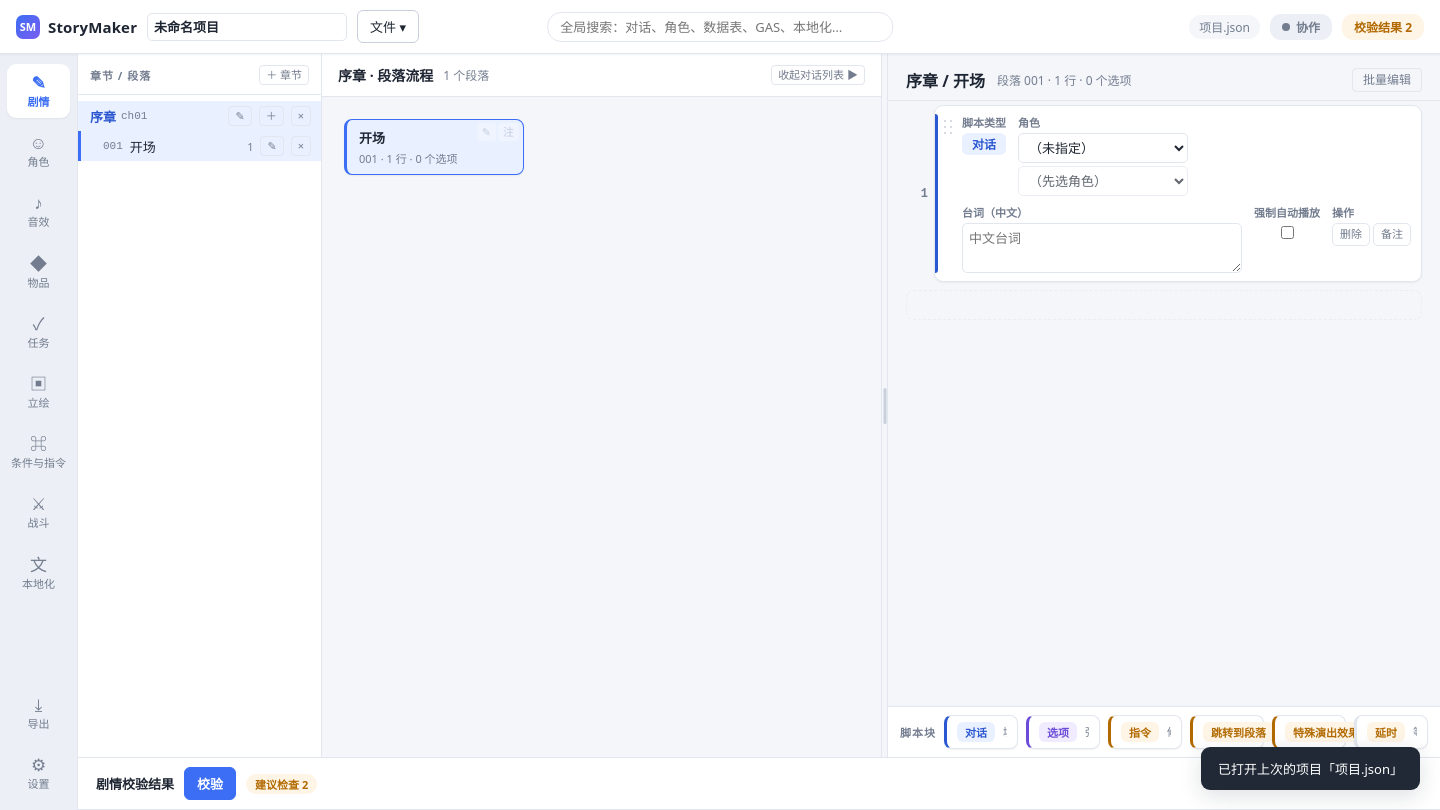
Test case: 界面冒烟测试 › 确认后章节被删除
Expected: the field titled "项目名称，也是导出文件名" is shown, [147,12,347,40]
Click the button "＋ 章节" at point(284, 75), box [259,65,309,85]
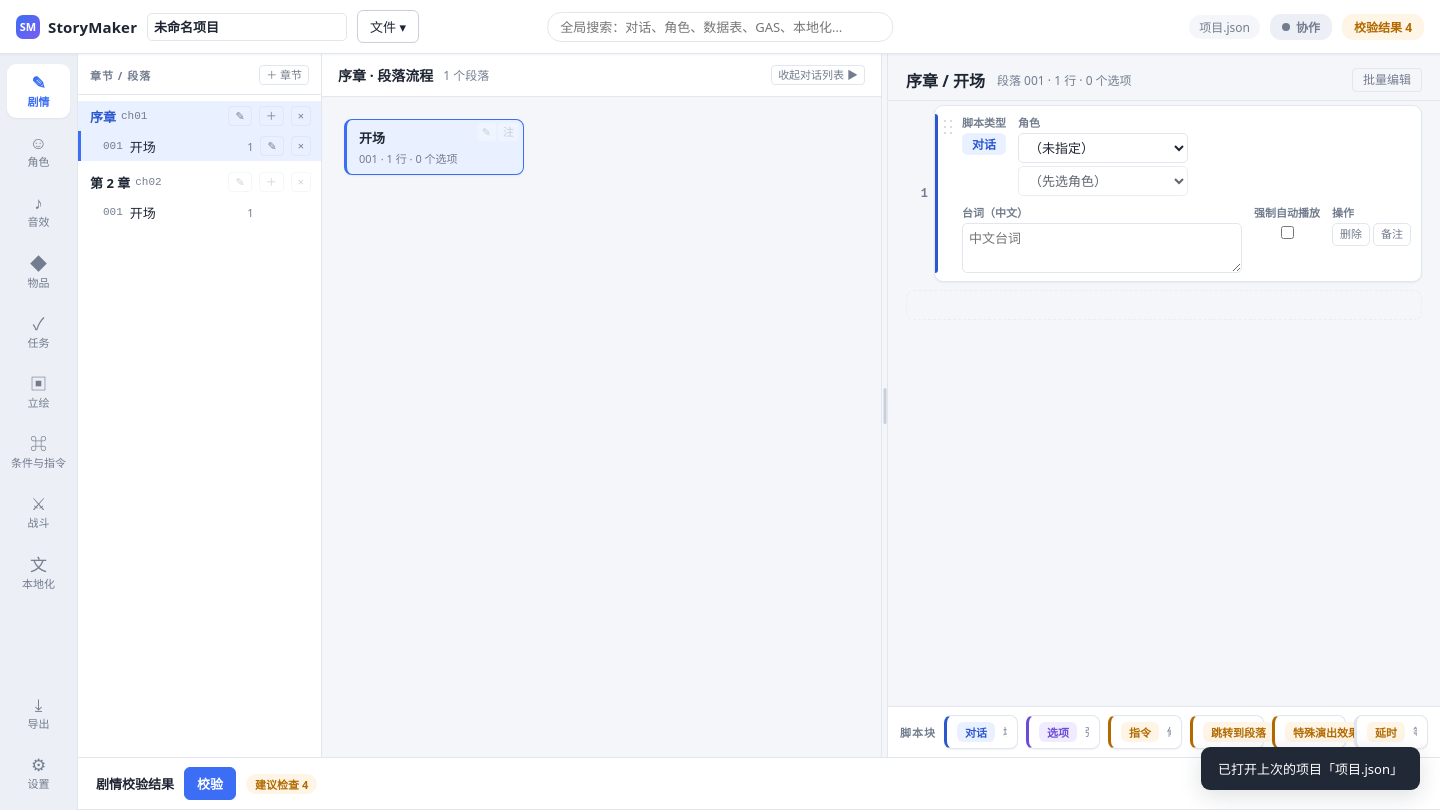
Click the button titled "删除本章" next to "ch02" at point(301, 182), box [291,172,311,192]
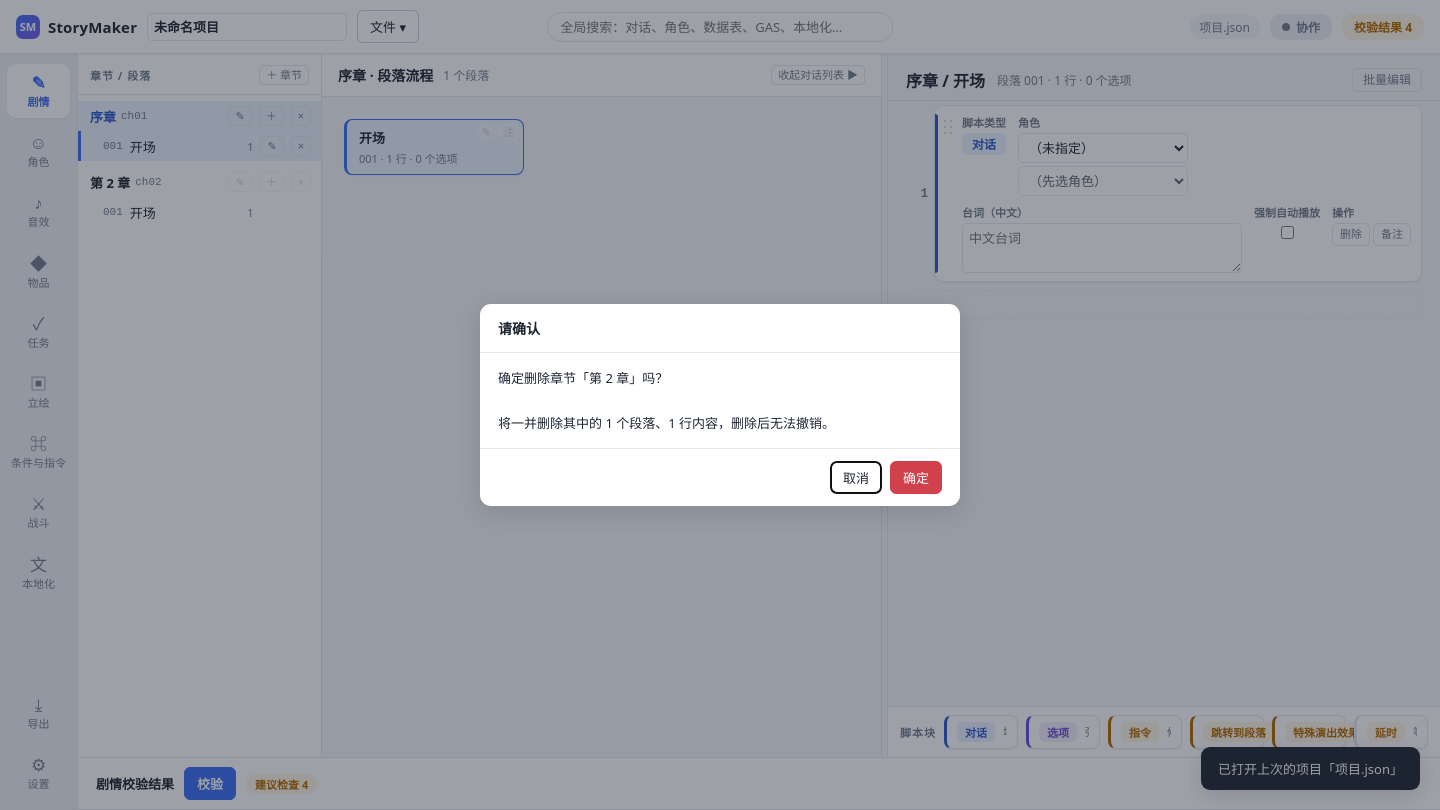
Click the button "确定" at point(916, 477), box [890,461,942,494]
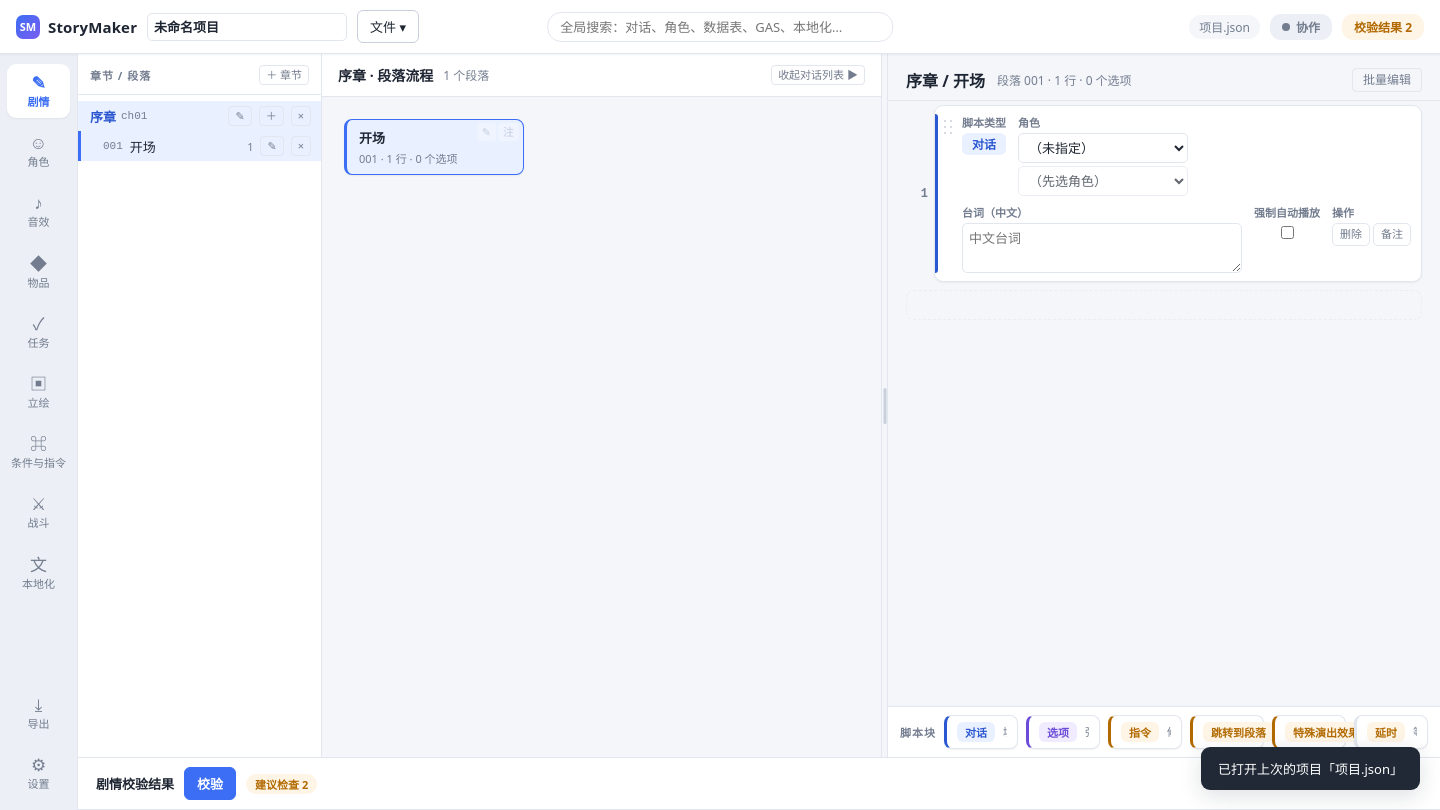
Expected: the text "第 2 章" is gone
